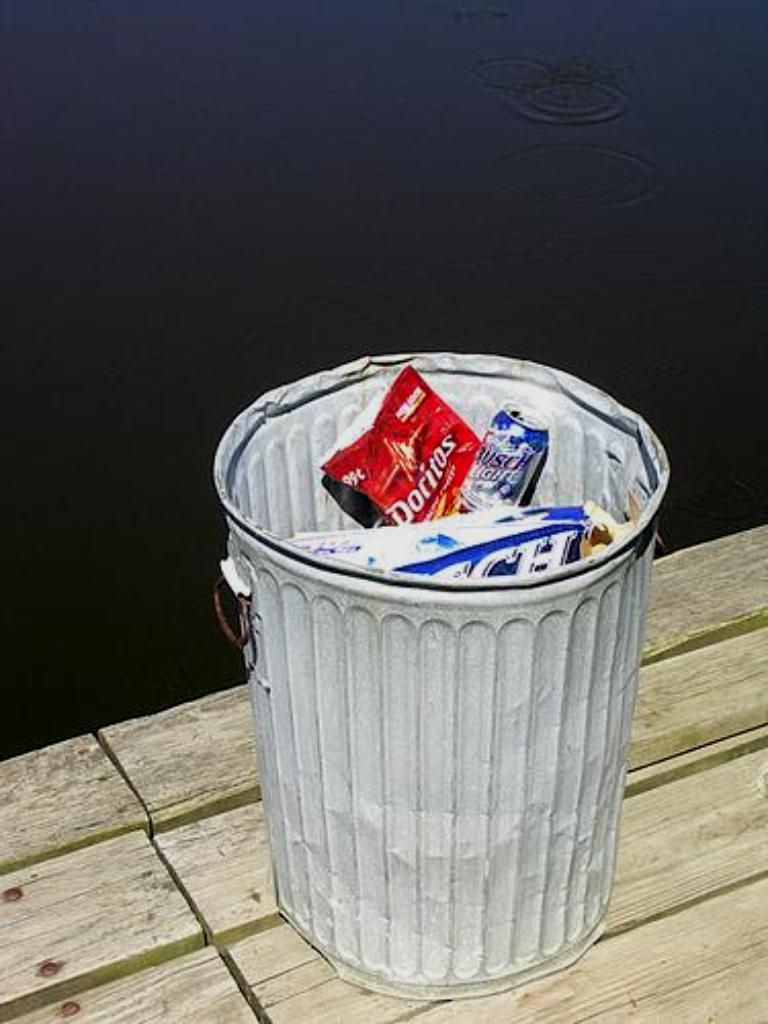dustbin: (210, 336, 702, 976)
